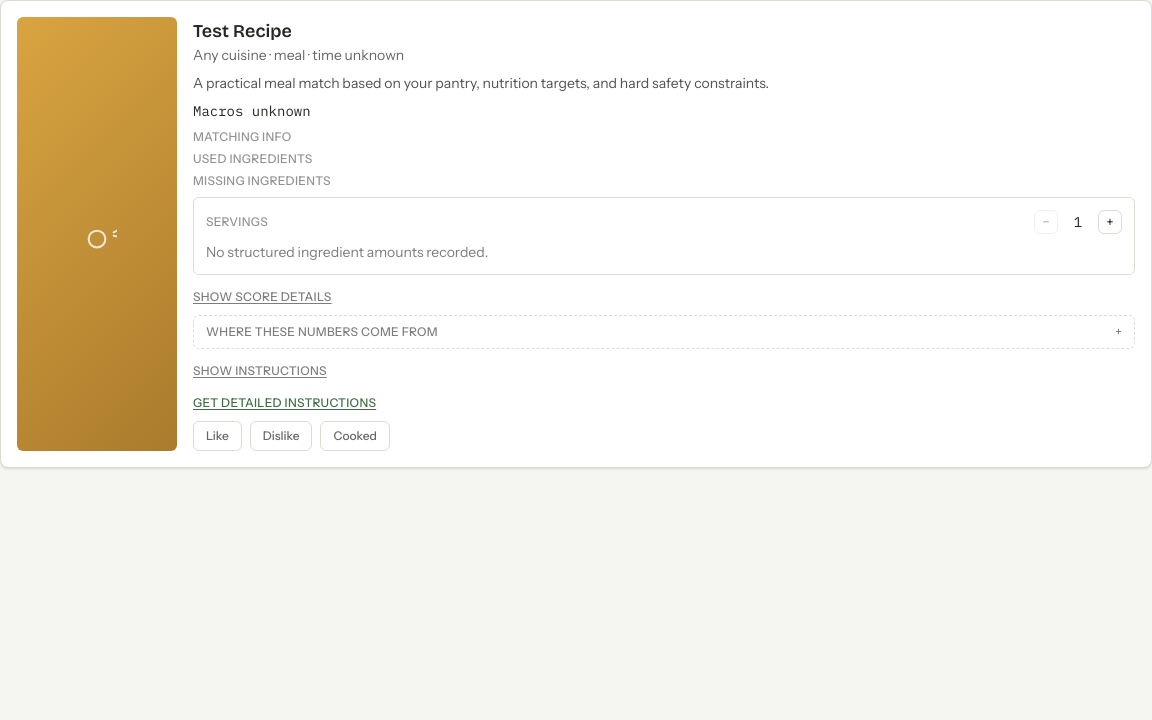
Test: RecipeCard 'Get detailed instructions' › shows a loading state, then renders the returned steps
What coordinates should you click on to do the following:
click the button "Get detailed instructions"
I would click on:
 (285, 403)
Its box is [193,395,376,411].
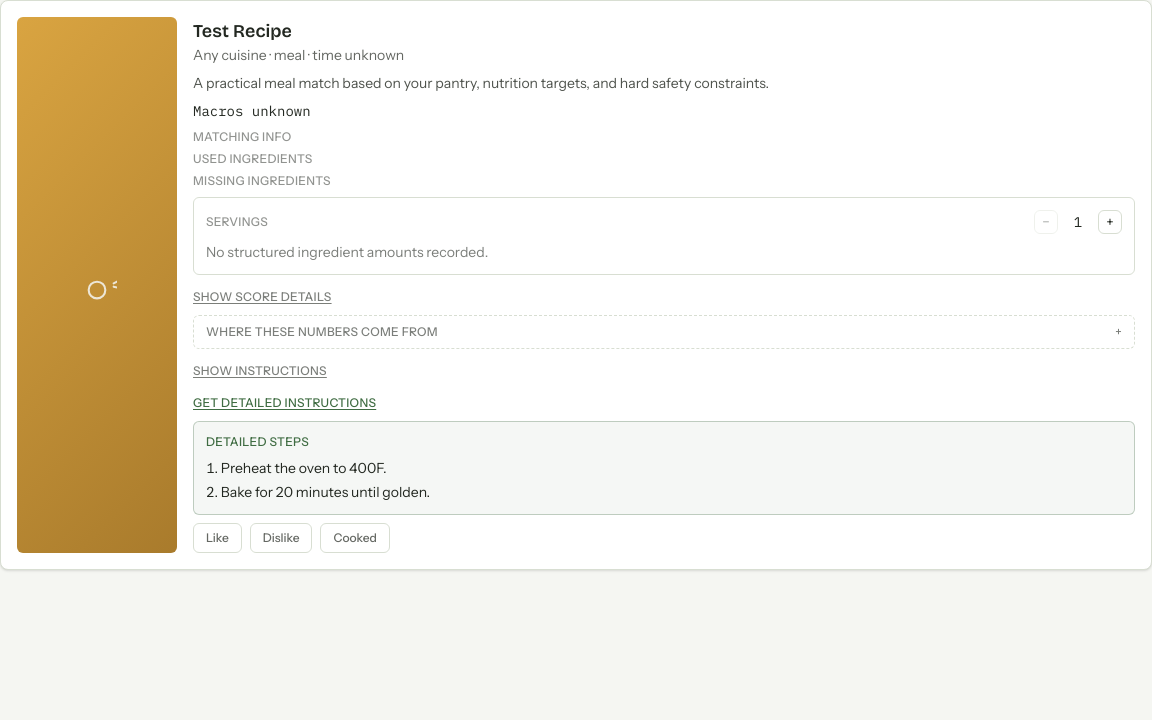
Check: the text "Detailed steps" is shown, box [206,434,309,449]
Check: the list item "Preheat the oven to 400F." is shown, box [221,459,387,477]
Check: the list item "Bake for 20 minutes until golden." is shown, box [221,483,430,501]
